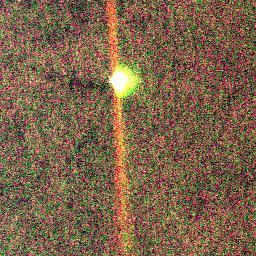Ship: (105, 64, 139, 94)
